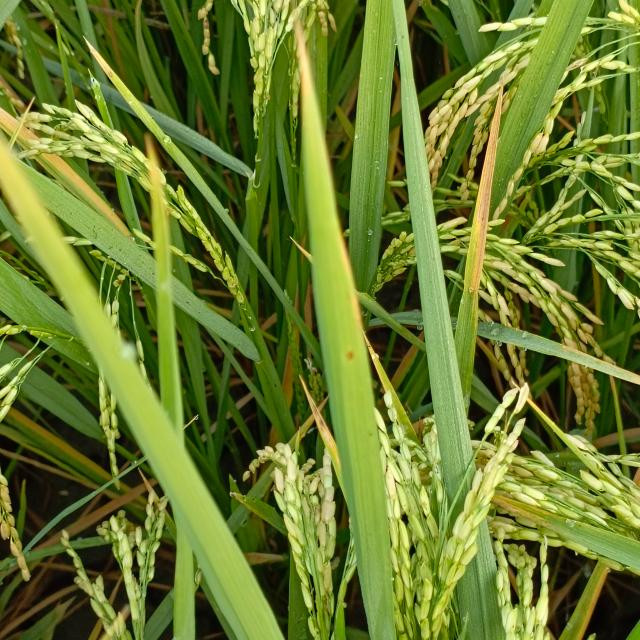Brown spot: (458, 71, 514, 298)
insects: (340, 342, 363, 370)
